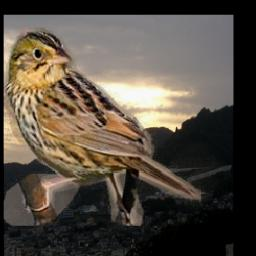Sparrow: (4, 28, 201, 227)
